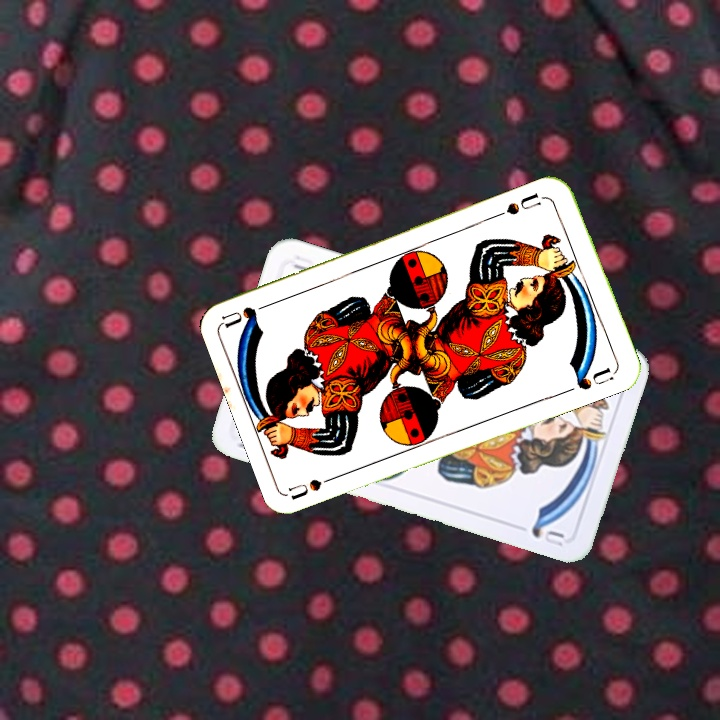SU: (286, 469, 345, 502), (493, 189, 543, 220)
